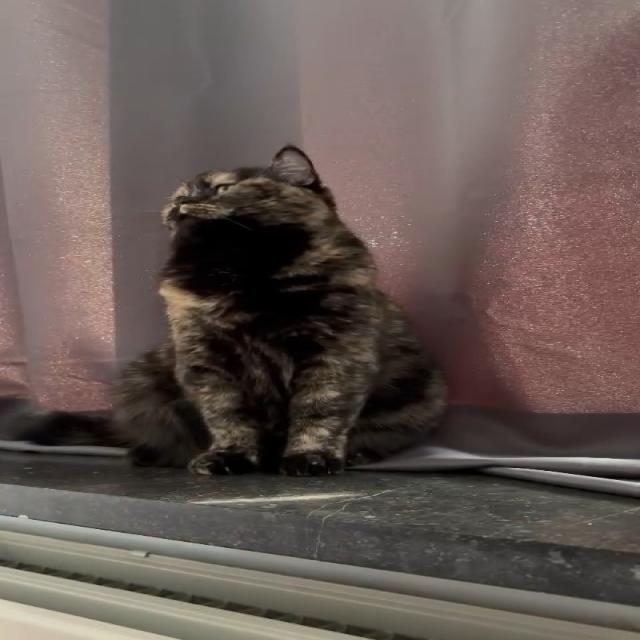authorized: (108, 143, 449, 477)
